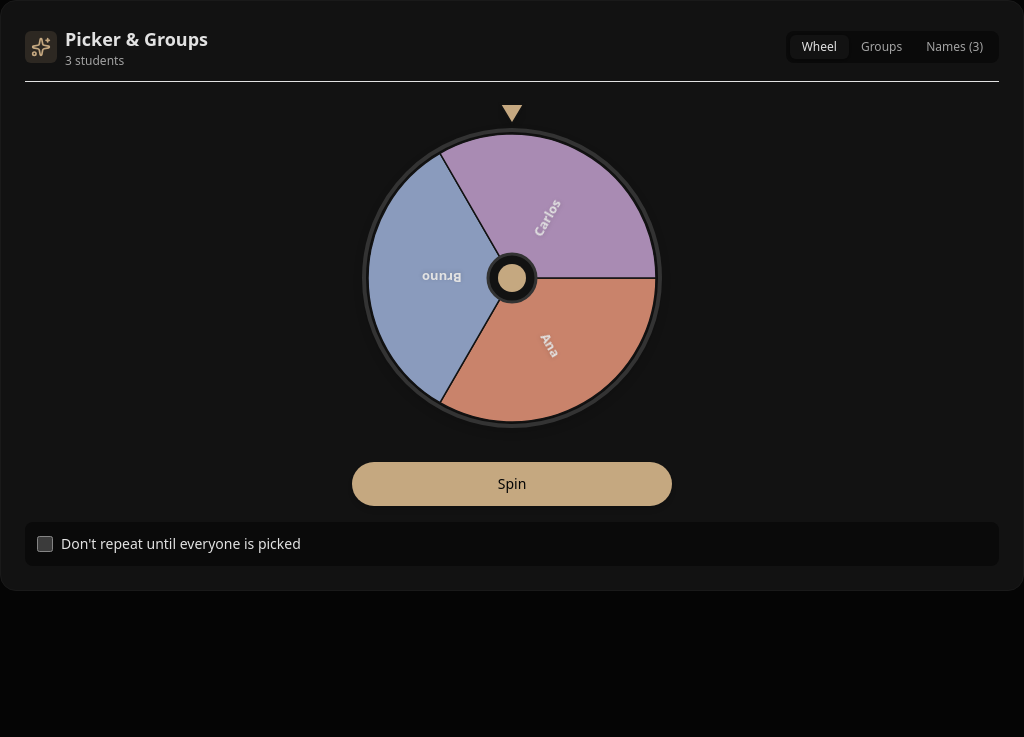
Test: ClassroomPicker (SDD/2026-10-03_06-sorteador-de-alunos-e-grupos.md) › CT02 / CA02: with 'Don't repeat' active, picks all 3 uniquely then auto-replenishes on 4th spin with notice
Click the checkbox labelled "Don't repeat until everyone is picked". click: (45,544)
box: [37, 536, 53, 552]
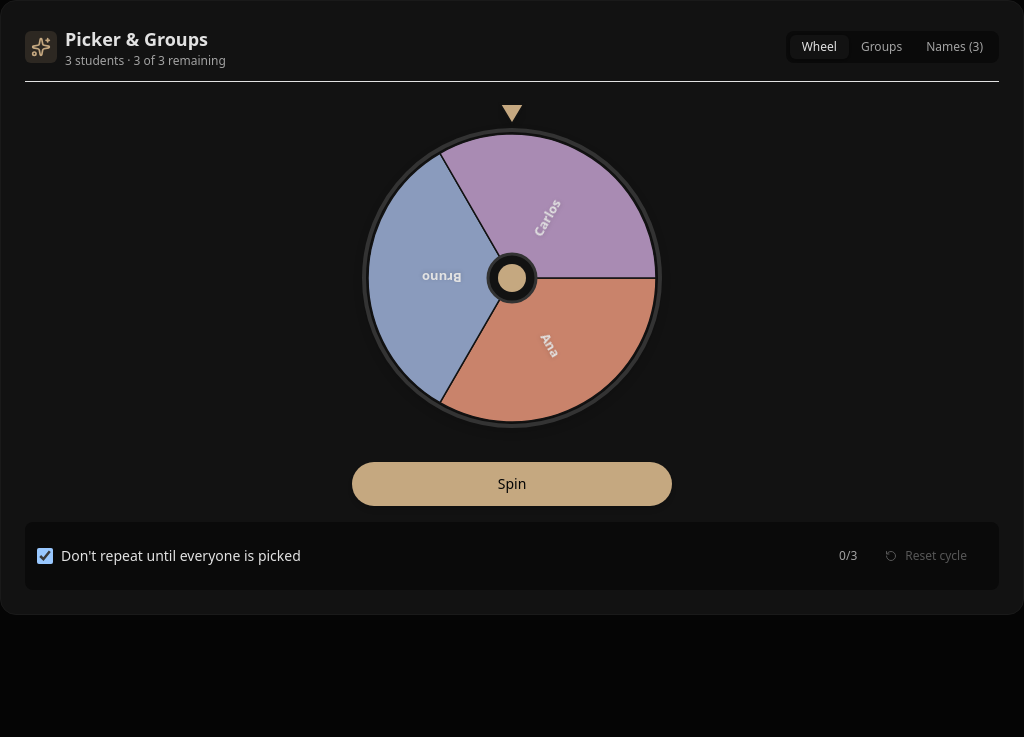
Check: the checkbox labelled "Don't repeat until everyone is picked" is checked, box [37, 548, 53, 564]
Click the button "Spin". click: (512,484)
box: [352, 462, 672, 506]
Wait 2500 ms
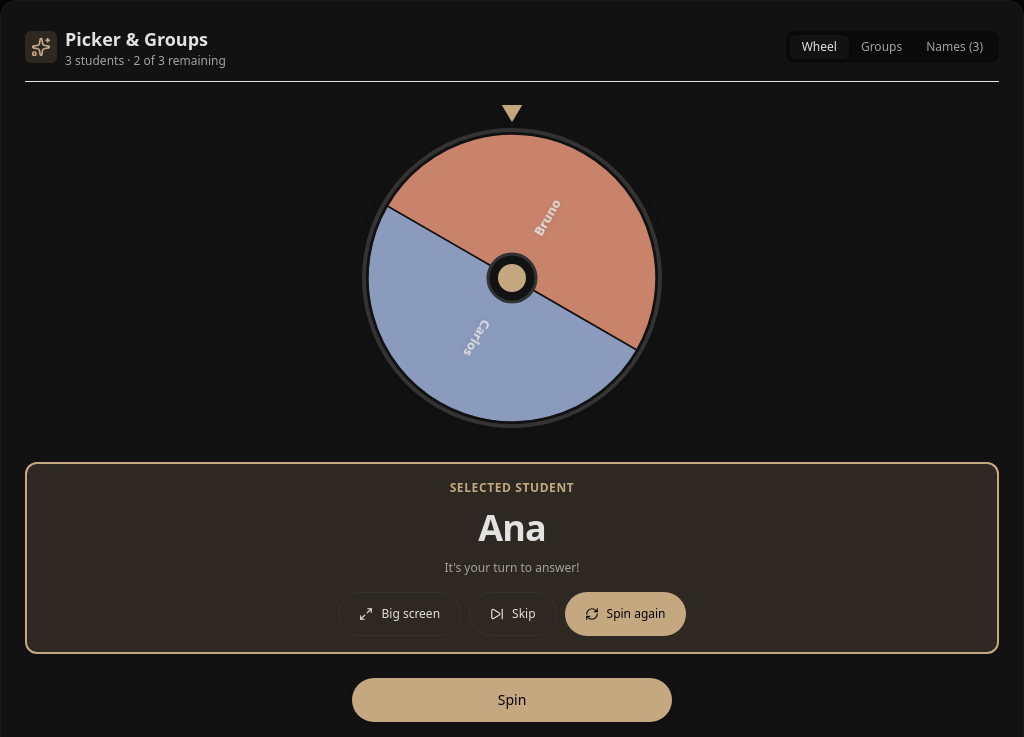
Click the button "Spin again". click: (625,614)
box: [564, 592, 686, 636]
Wait 2500 ms
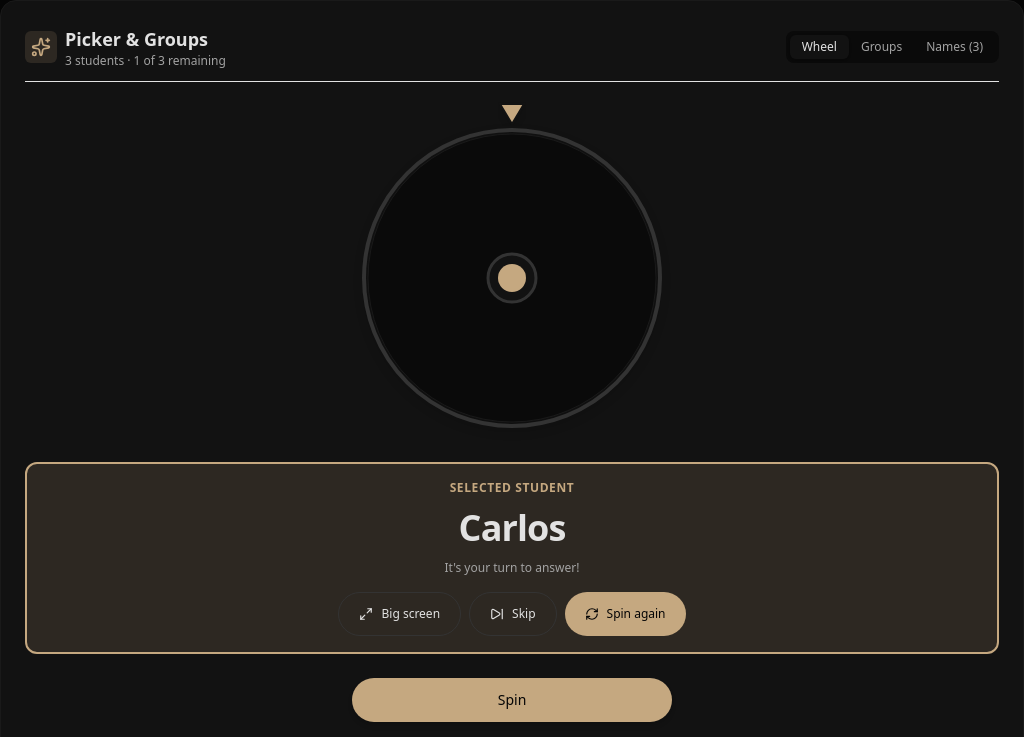
Click the button "Spin again". click: (625,614)
box: [564, 592, 686, 636]
Wait 2500 ms
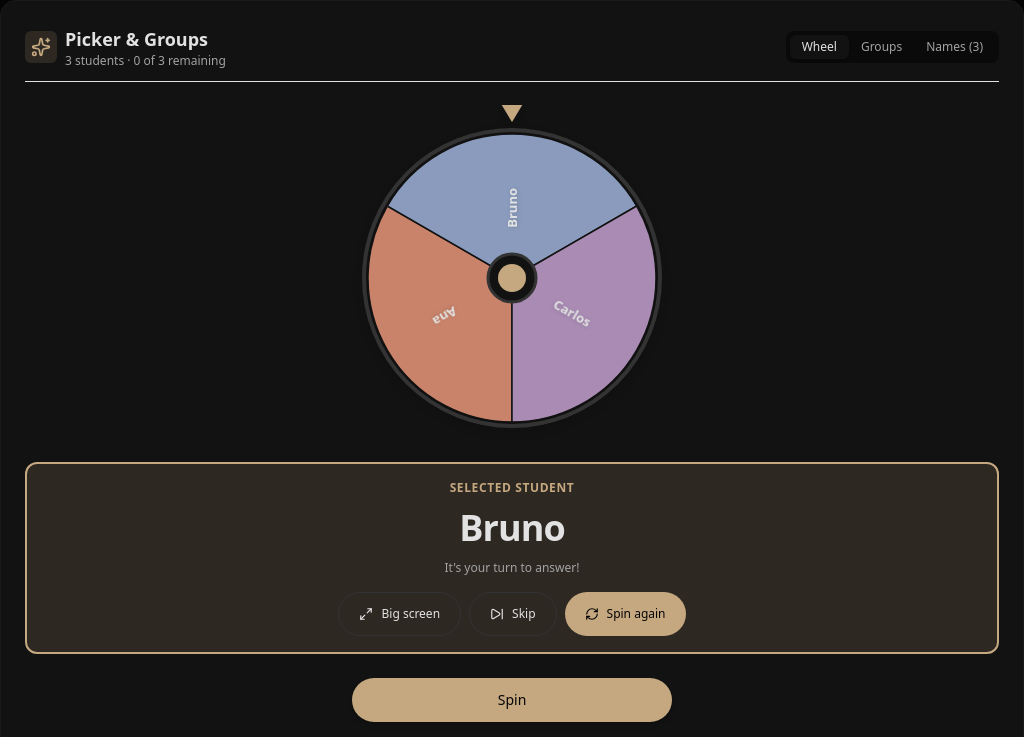
Click the button "Spin again". click: (625,614)
box: [564, 592, 686, 636]
Wait 2500 ms
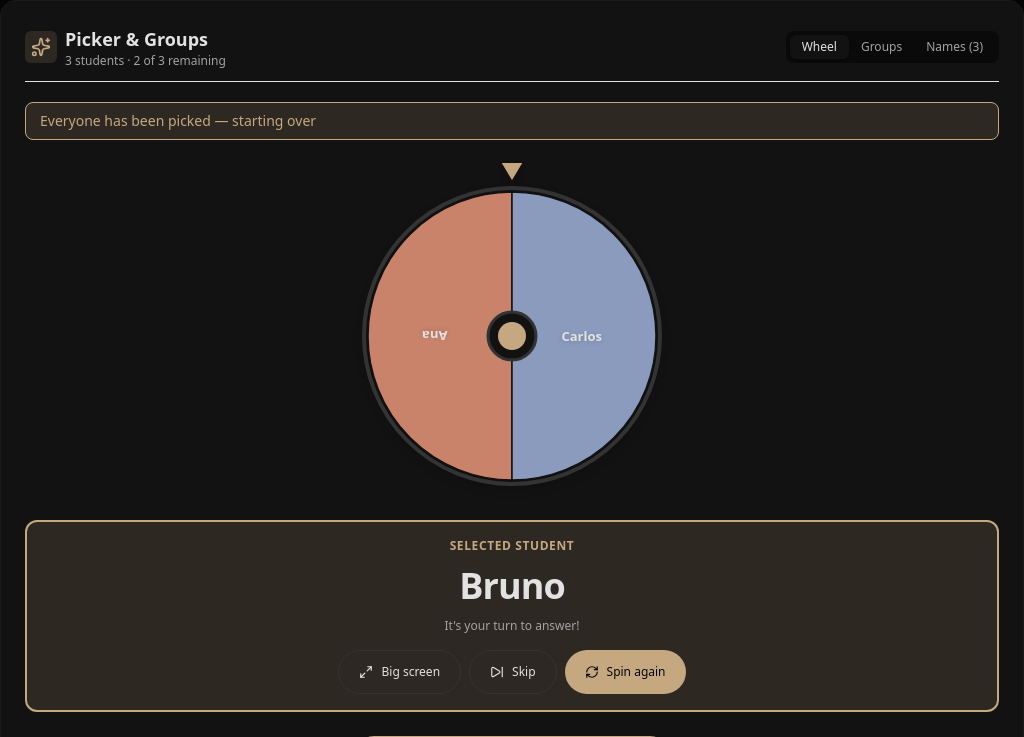
Check: the text "Everyone has been picked — starting over" is shown, box [25, 102, 999, 140]
